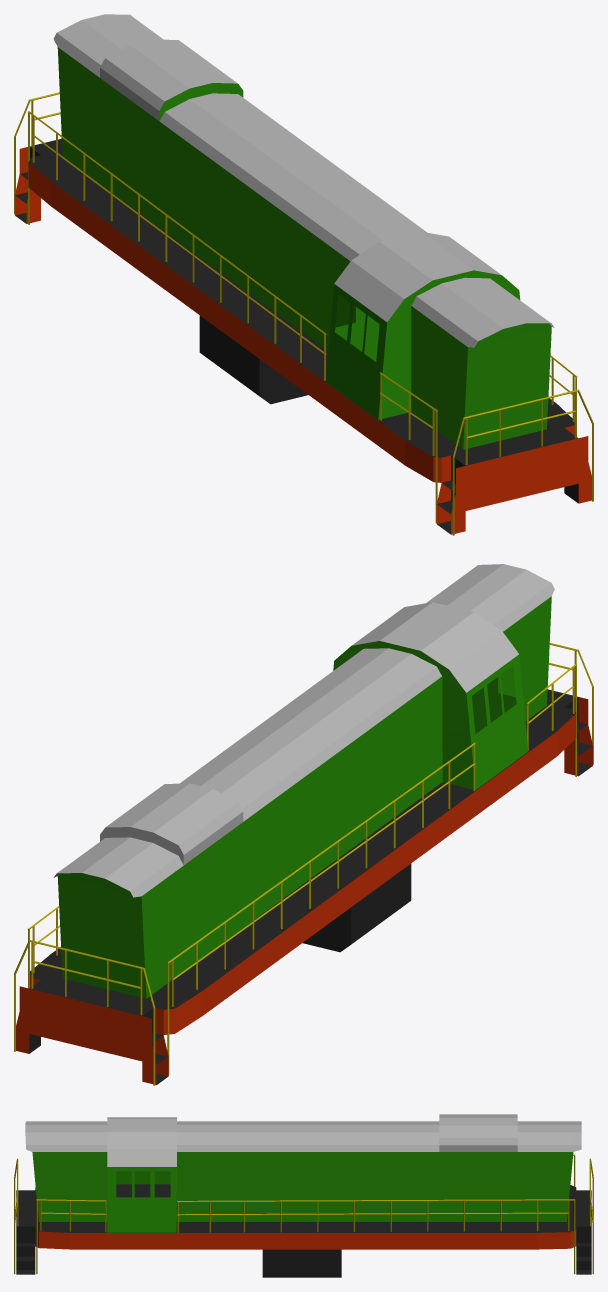
Rendered from ChME3_body.gltf.
3 renders of one model, top to bottom at view 1: azimuth 30°, elevation 25°; view 2: azimuth 150°, elevation 25°; view 3: azimuth 270°, elevation 25°, orthographic. The views are drawn at different scales.
Visible parts, largest first — view 1: body; view 2: body; view 3: body.
Boxes of the visible parts, left/top/right/bottom form: body: left=14, top=14, right=593, bottom=535; body: left=14, top=564, right=593, bottom=1085; body: left=14, top=1114, right=593, bottom=1277.
Bounding box in the file's own units: 3.15 × 4.06 × 15.83.
